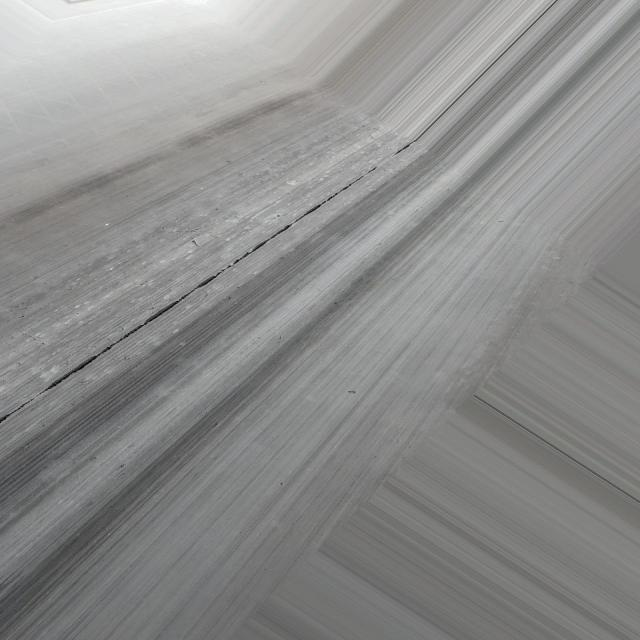Tear: (0, 134, 422, 422)
